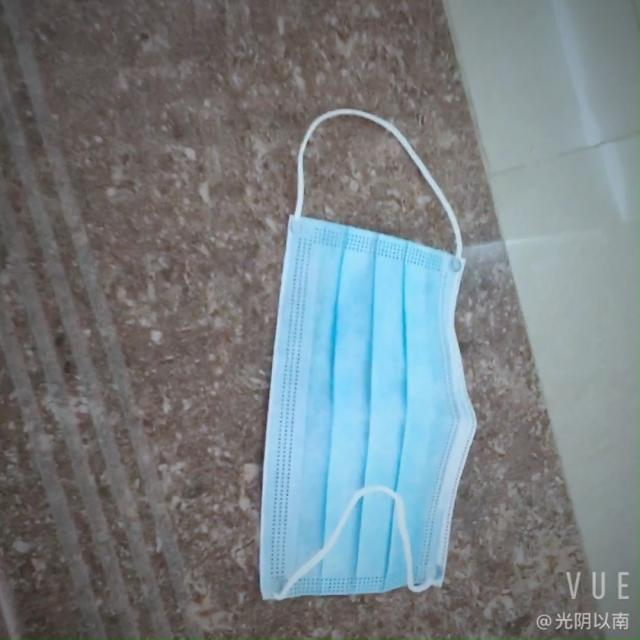non-organic waste: (250, 213, 473, 611)
